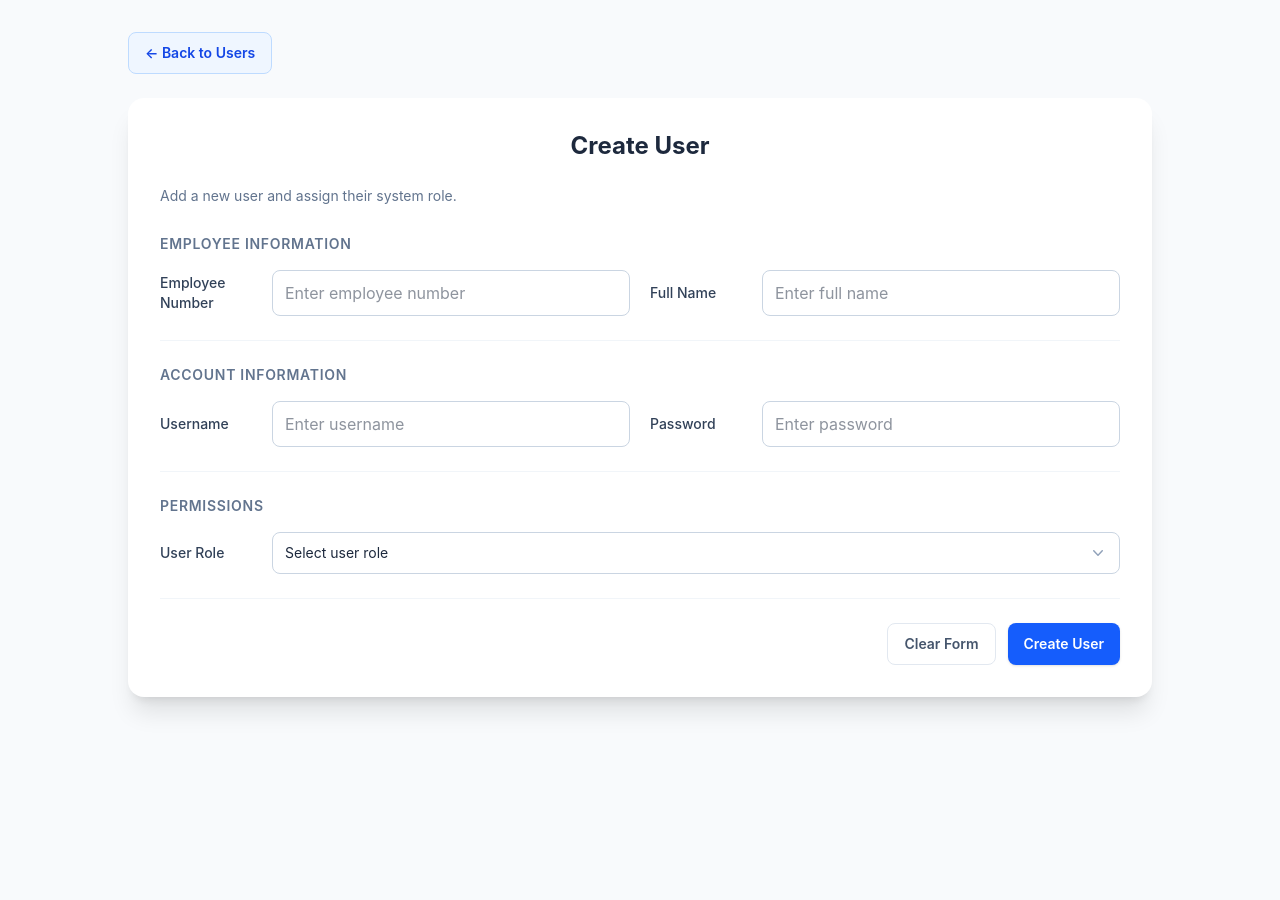
Test: CreateUser page › confirms and creates a valid user, displays the result, and resets the form
In the field labelled "Employee Number": coordinates (451, 293) [272, 270, 630, 316], type "EMP-2021"
In the field labelled "Full Name": coordinates (941, 293) [762, 270, 1120, 316], type "Taylor Technician"
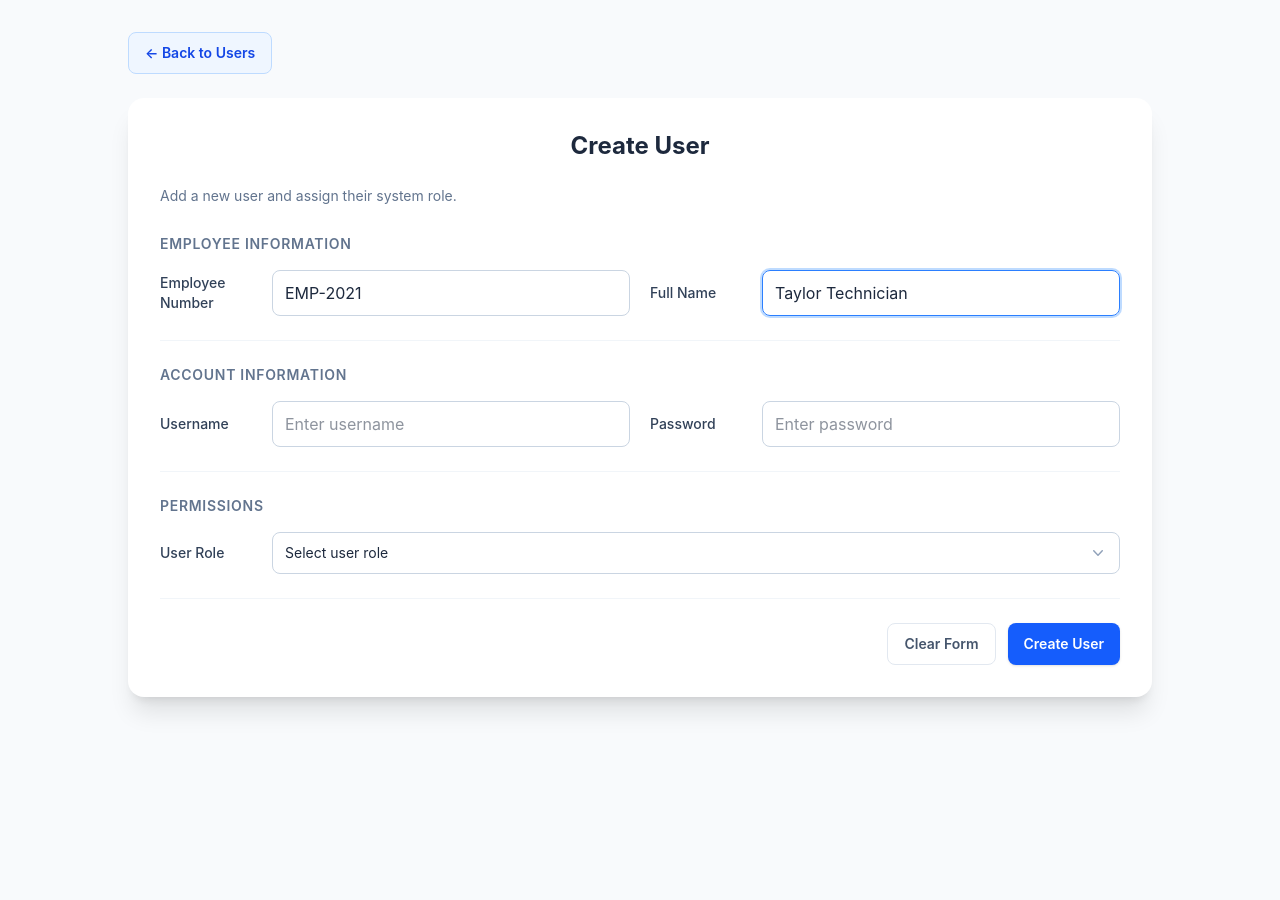
In the field labelled "Username": coordinates (451, 424) [272, 401, 630, 447], type "taylor.t"
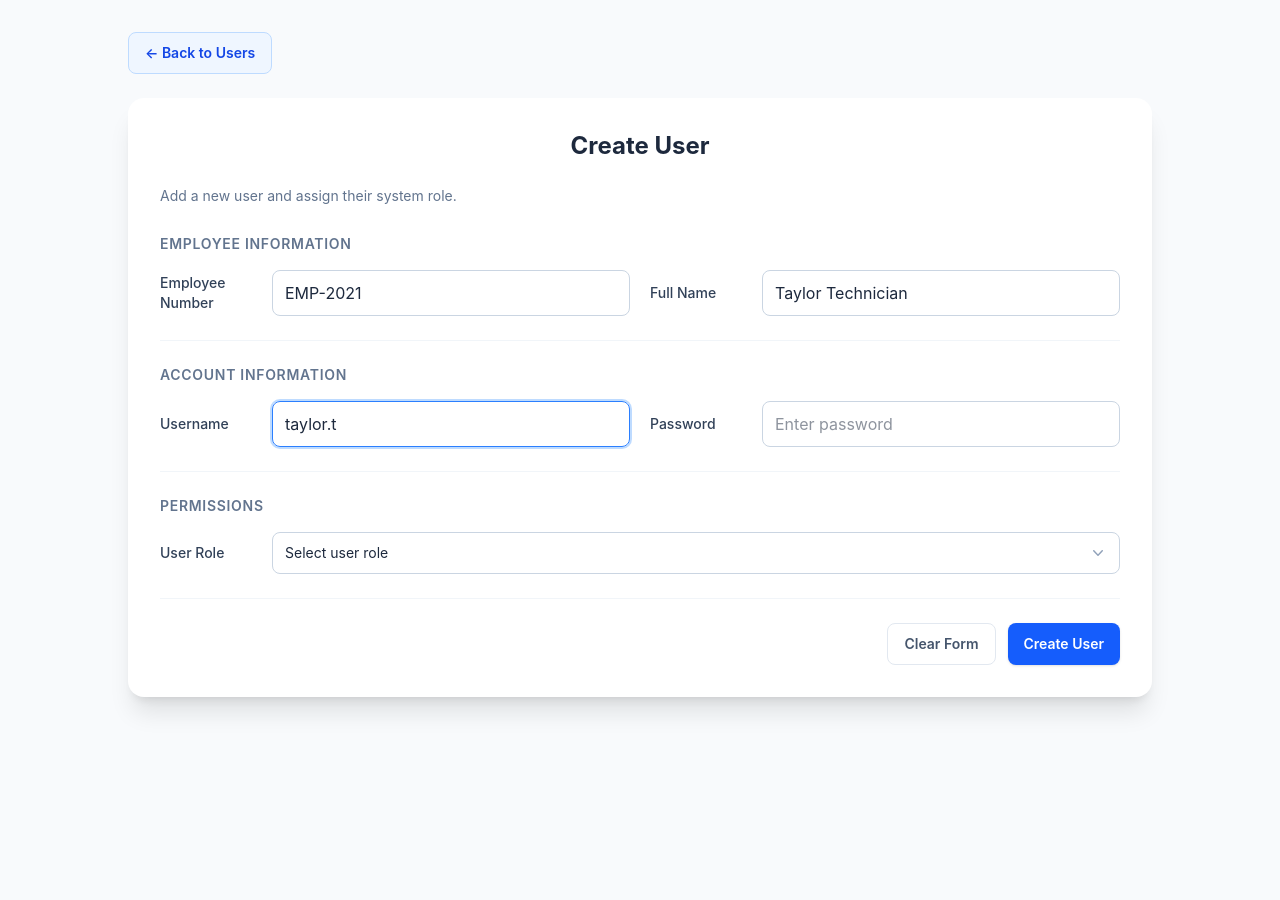
In the password field labelled "Password": coordinates (941, 424) [762, 401, 1120, 447], type "secure-password"
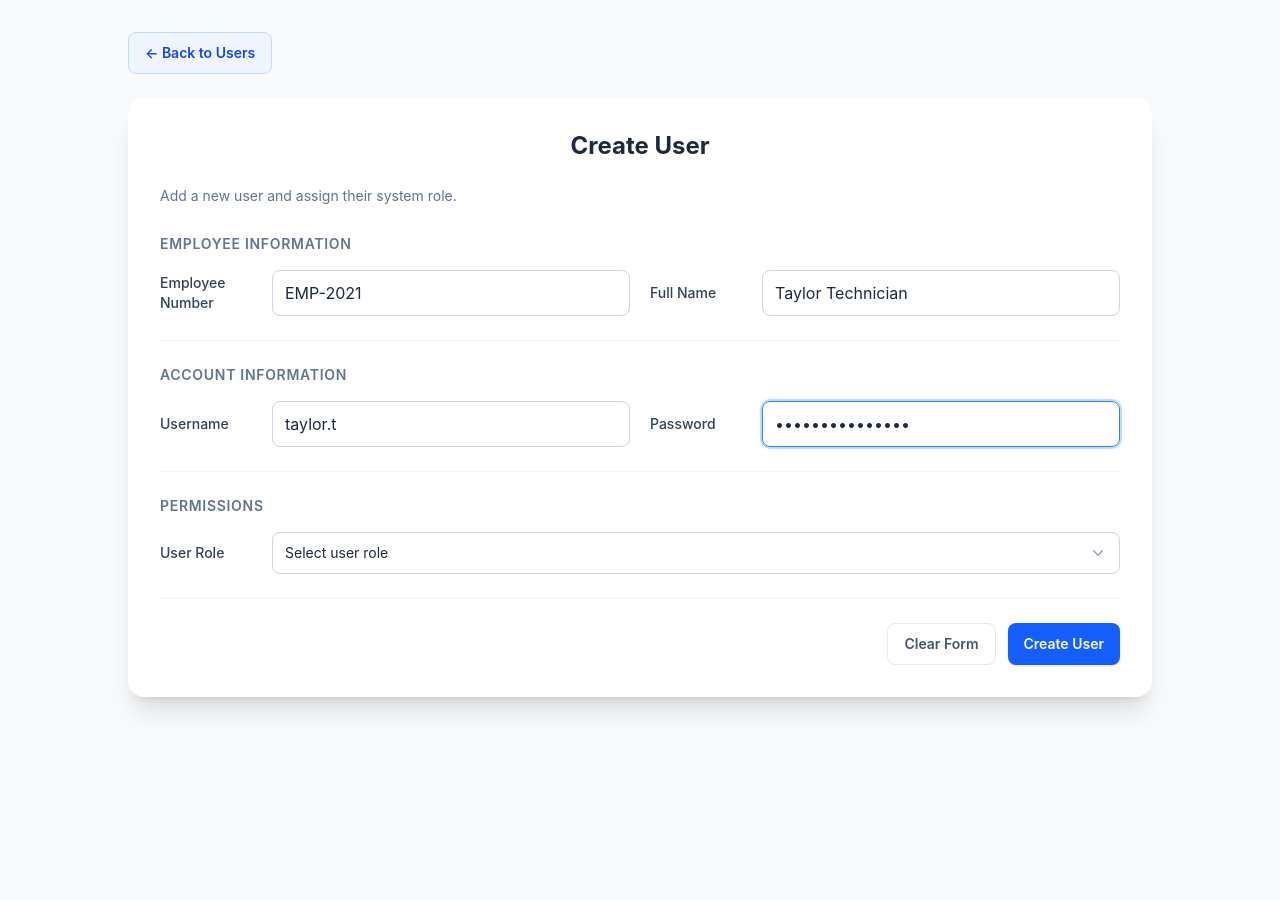
Select "Technician" in the dropdown labelled "User Role": coordinates (696, 553) [272, 532, 1120, 574]
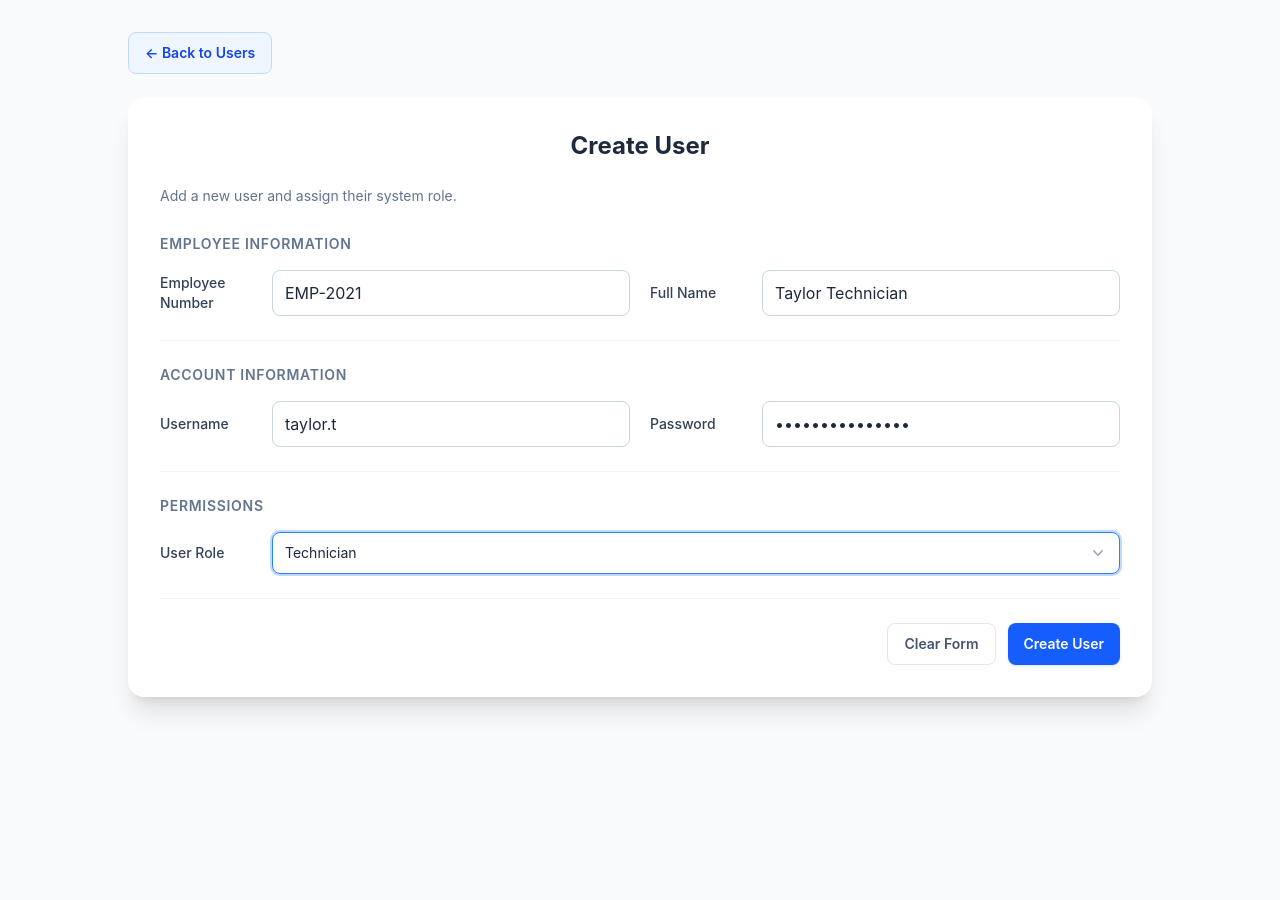
Click the button "Create User": coordinates (1064, 644) [1008, 623, 1120, 665]
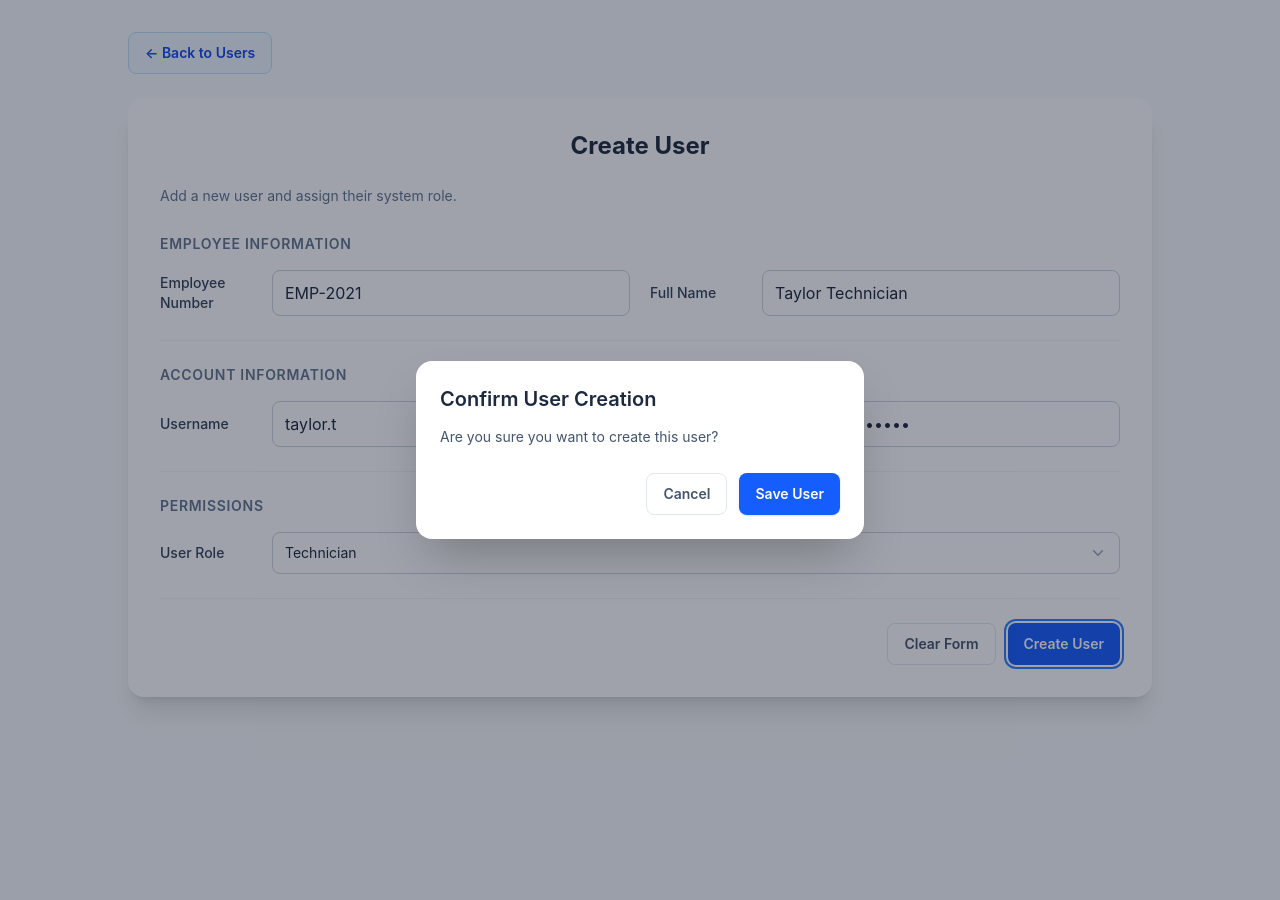
Check: the heading "Confirm User Creation" is shown, box [440, 387, 656, 411]
Click the button "Save User": coordinates (790, 494) [740, 473, 840, 515]
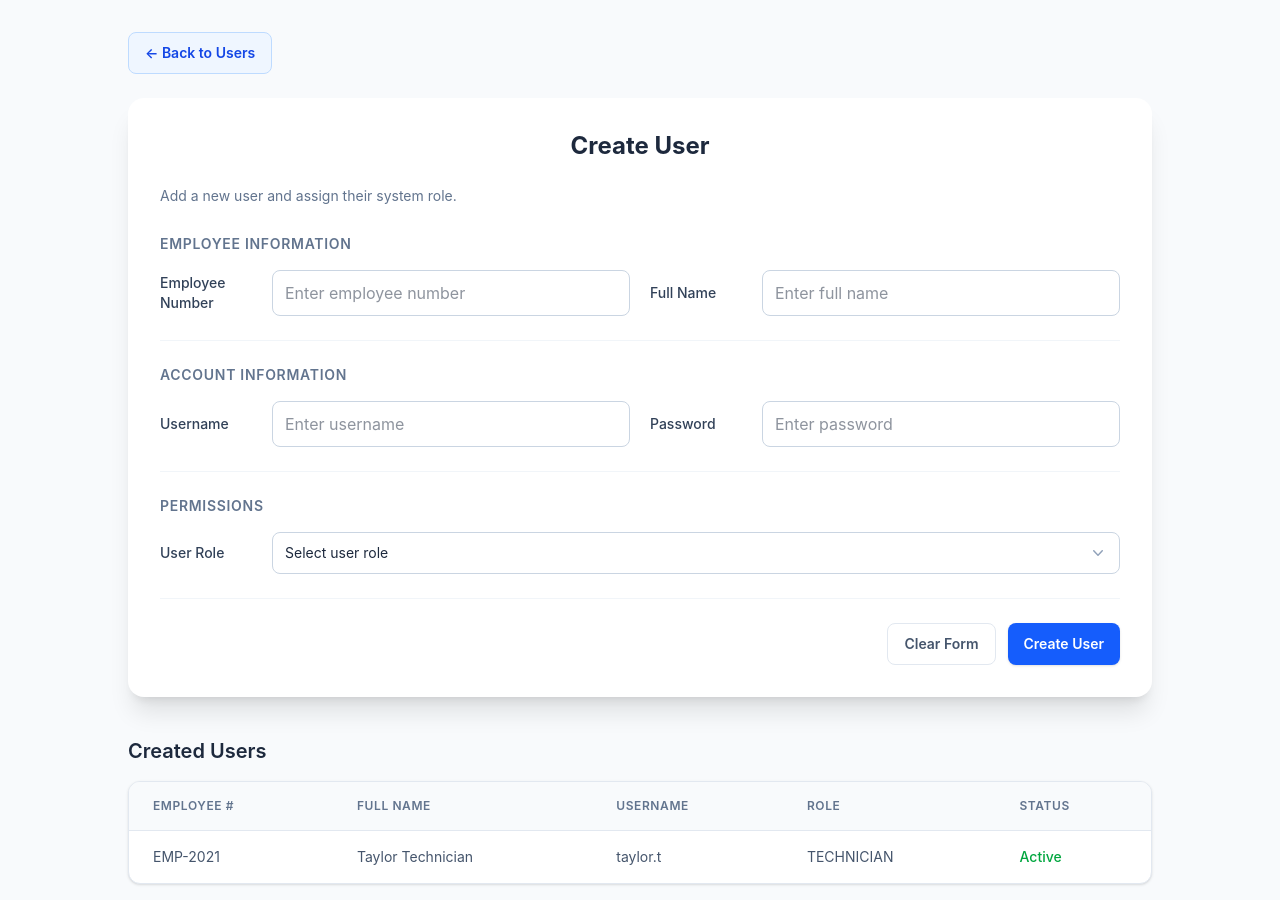
Check: the heading "Created Users" is shown, box [128, 739, 266, 763]
Check: the text "Taylor Technician" is shown, box [333, 830, 592, 883]
Check: the text "Active" is shown, box [1020, 848, 1062, 865]
